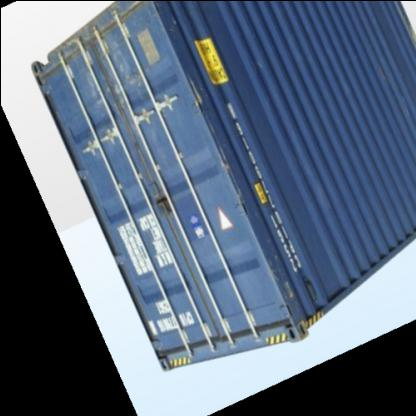Damage: (58, 35, 138, 119), (250, 246, 309, 318), (174, 76, 209, 118), (143, 190, 171, 226)
